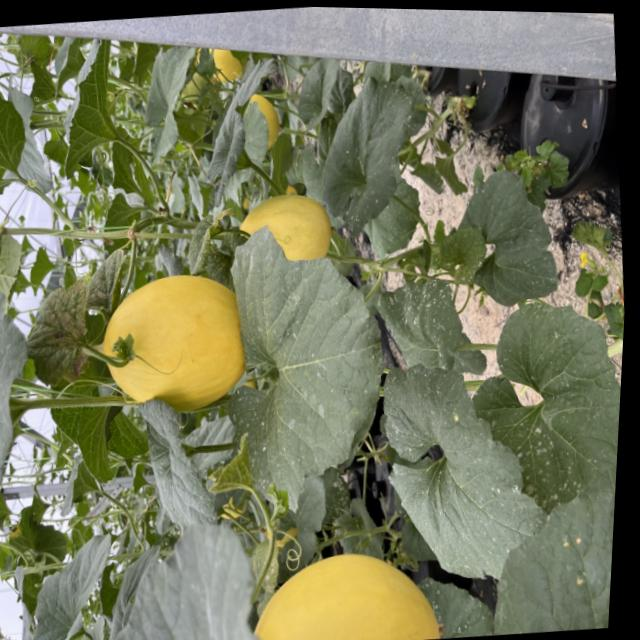CMV: (181, 199, 239, 272)
alternaria leaf blight: (16, 271, 106, 388), (74, 248, 131, 313)
downy mildew: (476, 458, 617, 637)
healthy: (10, 521, 124, 640), (119, 38, 209, 178), (49, 35, 128, 172), (0, 279, 39, 490), (0, 67, 33, 218)
powdery mildew: (206, 215, 399, 513), (458, 296, 625, 514), (370, 361, 533, 578), (313, 74, 426, 235), (461, 169, 563, 307), (132, 395, 222, 531), (365, 272, 481, 373)
